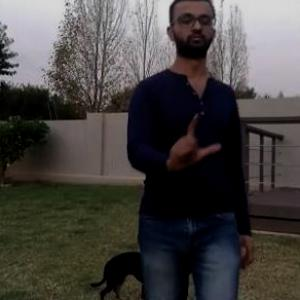land_hand: (164, 111, 223, 175)
